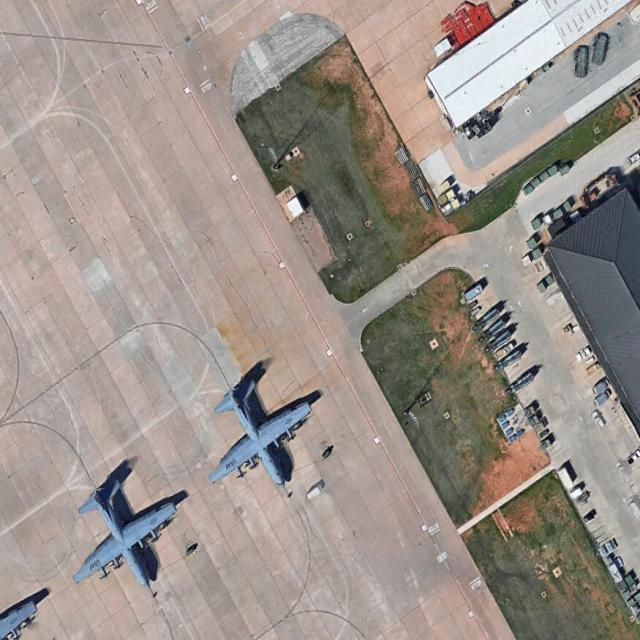fighter jet: (209, 361, 317, 498), (60, 474, 181, 595)
